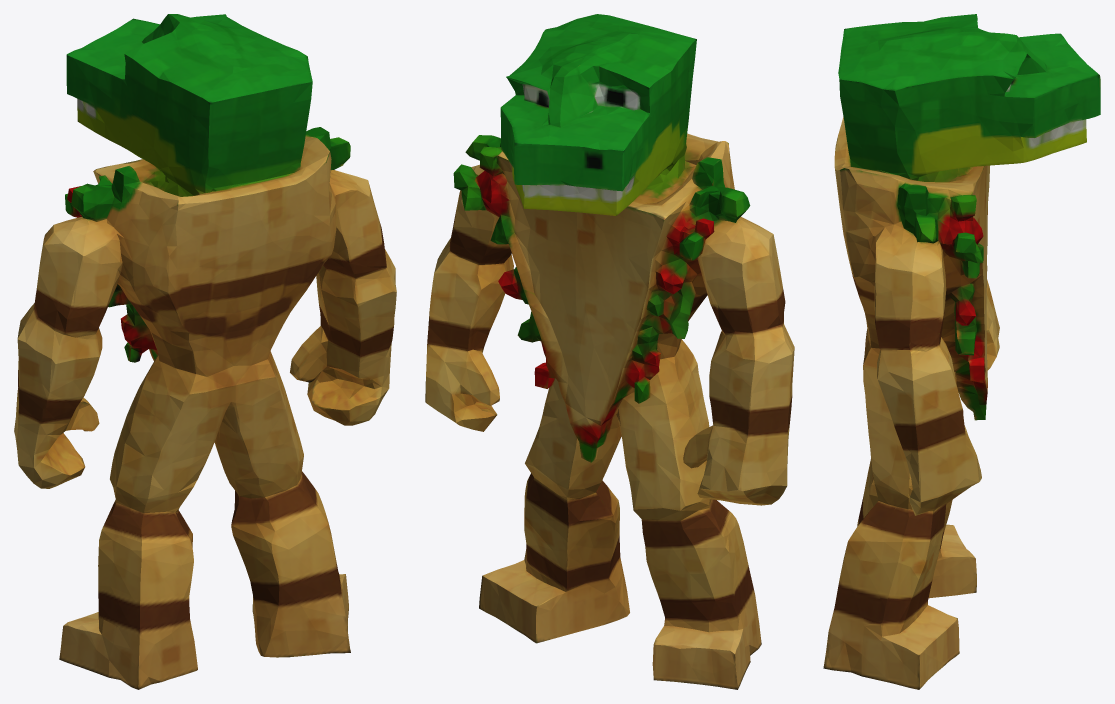
Rendered from CoccodrilloTacorito.glb.
The picture shows the model from 3 angles, left to right: view 1: azimuth 30°, elevation 25°; view 2: azimuth 150°, elevation 25°; view 3: azimuth 270°, elevation 25°; orthographic projection. The views are drawn at different scales.
Visible parts, largest first — view 1: geometry_0; view 2: geometry_0; view 3: geometry_0.
Part boxes in pixels (x1,y1,x2,y2): geometry_0: (14,14,396,689); geometry_0: (425,14,794,689); geometry_0: (823,14,1100,689).
Size of the model in its own units: 0.6418 by 1 by 0.4232.
1 material, 1 textured.
